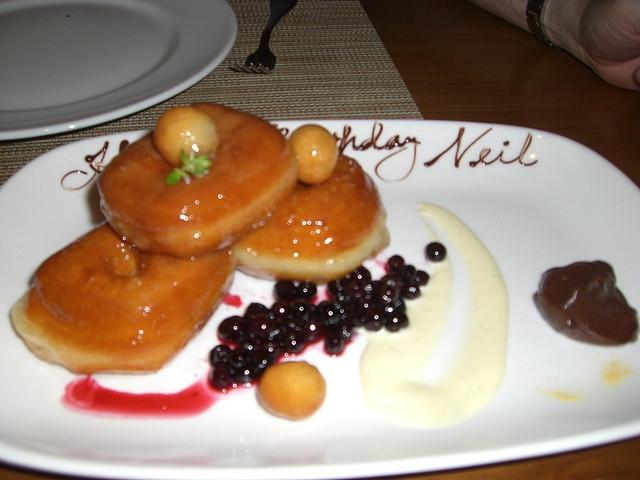blueberry: (218, 316, 252, 344), (315, 301, 342, 328), (279, 330, 308, 354), (250, 315, 274, 338), (302, 317, 324, 342), (356, 300, 378, 324), (244, 302, 270, 322), (209, 367, 232, 389), (362, 306, 383, 330), (230, 348, 252, 370), (270, 323, 294, 343), (210, 345, 232, 366), (272, 300, 292, 322), (275, 281, 297, 301), (325, 334, 345, 354), (376, 285, 396, 305), (291, 302, 311, 322), (427, 242, 446, 262), (328, 280, 348, 298), (260, 342, 282, 358), (358, 280, 376, 299), (400, 284, 421, 300), (351, 266, 372, 282), (296, 282, 317, 298), (388, 296, 406, 314), (339, 322, 354, 342), (380, 274, 398, 290), (392, 311, 409, 327), (400, 265, 416, 281), (414, 271, 431, 286), (388, 256, 404, 270), (348, 289, 364, 303), (338, 308, 352, 322), (341, 274, 352, 287)
